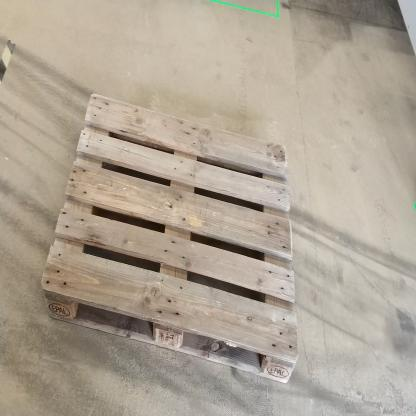BoxFace: (24, 84, 304, 398)
